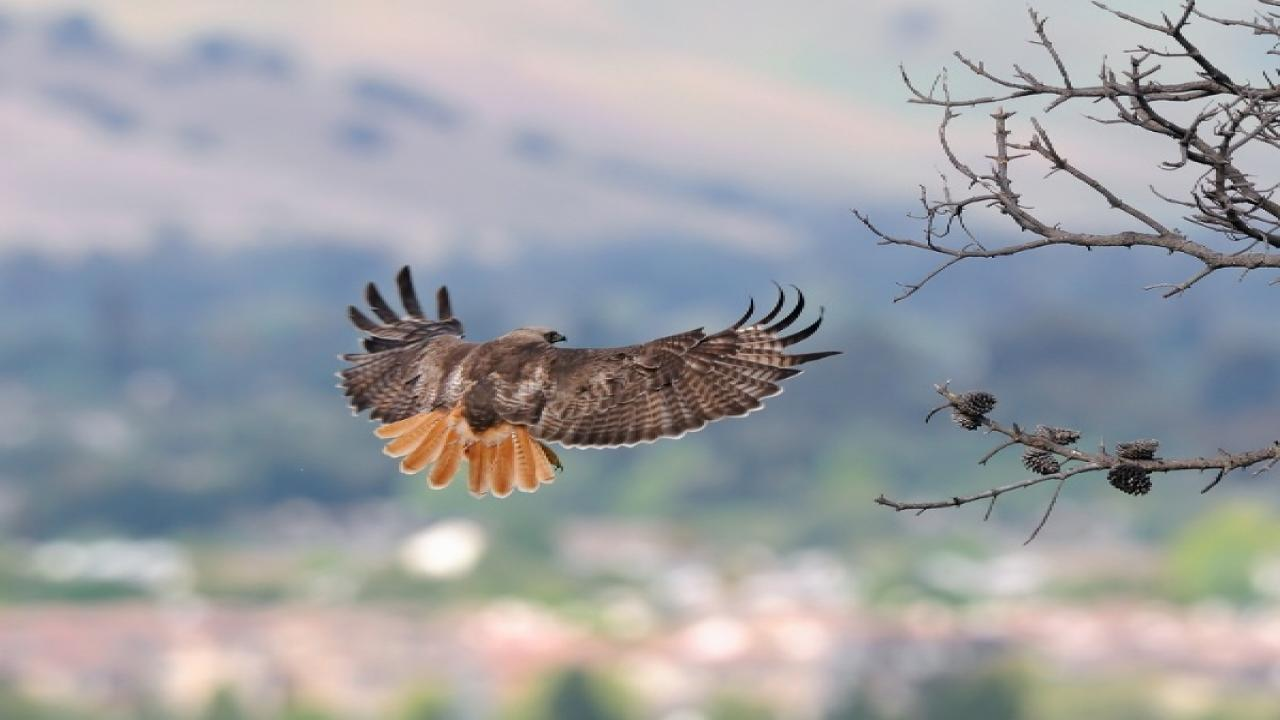Bird: (330, 259, 856, 503)
